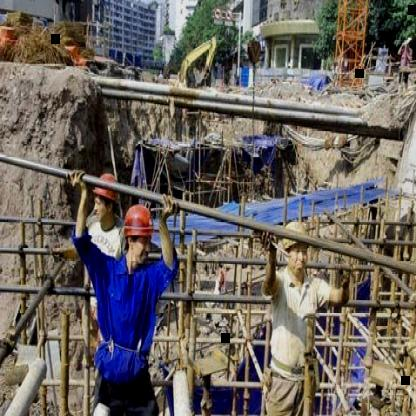helmet: (121, 199, 156, 244), (89, 169, 119, 207)
